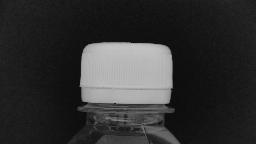Good Cap: (71, 37, 181, 118)
